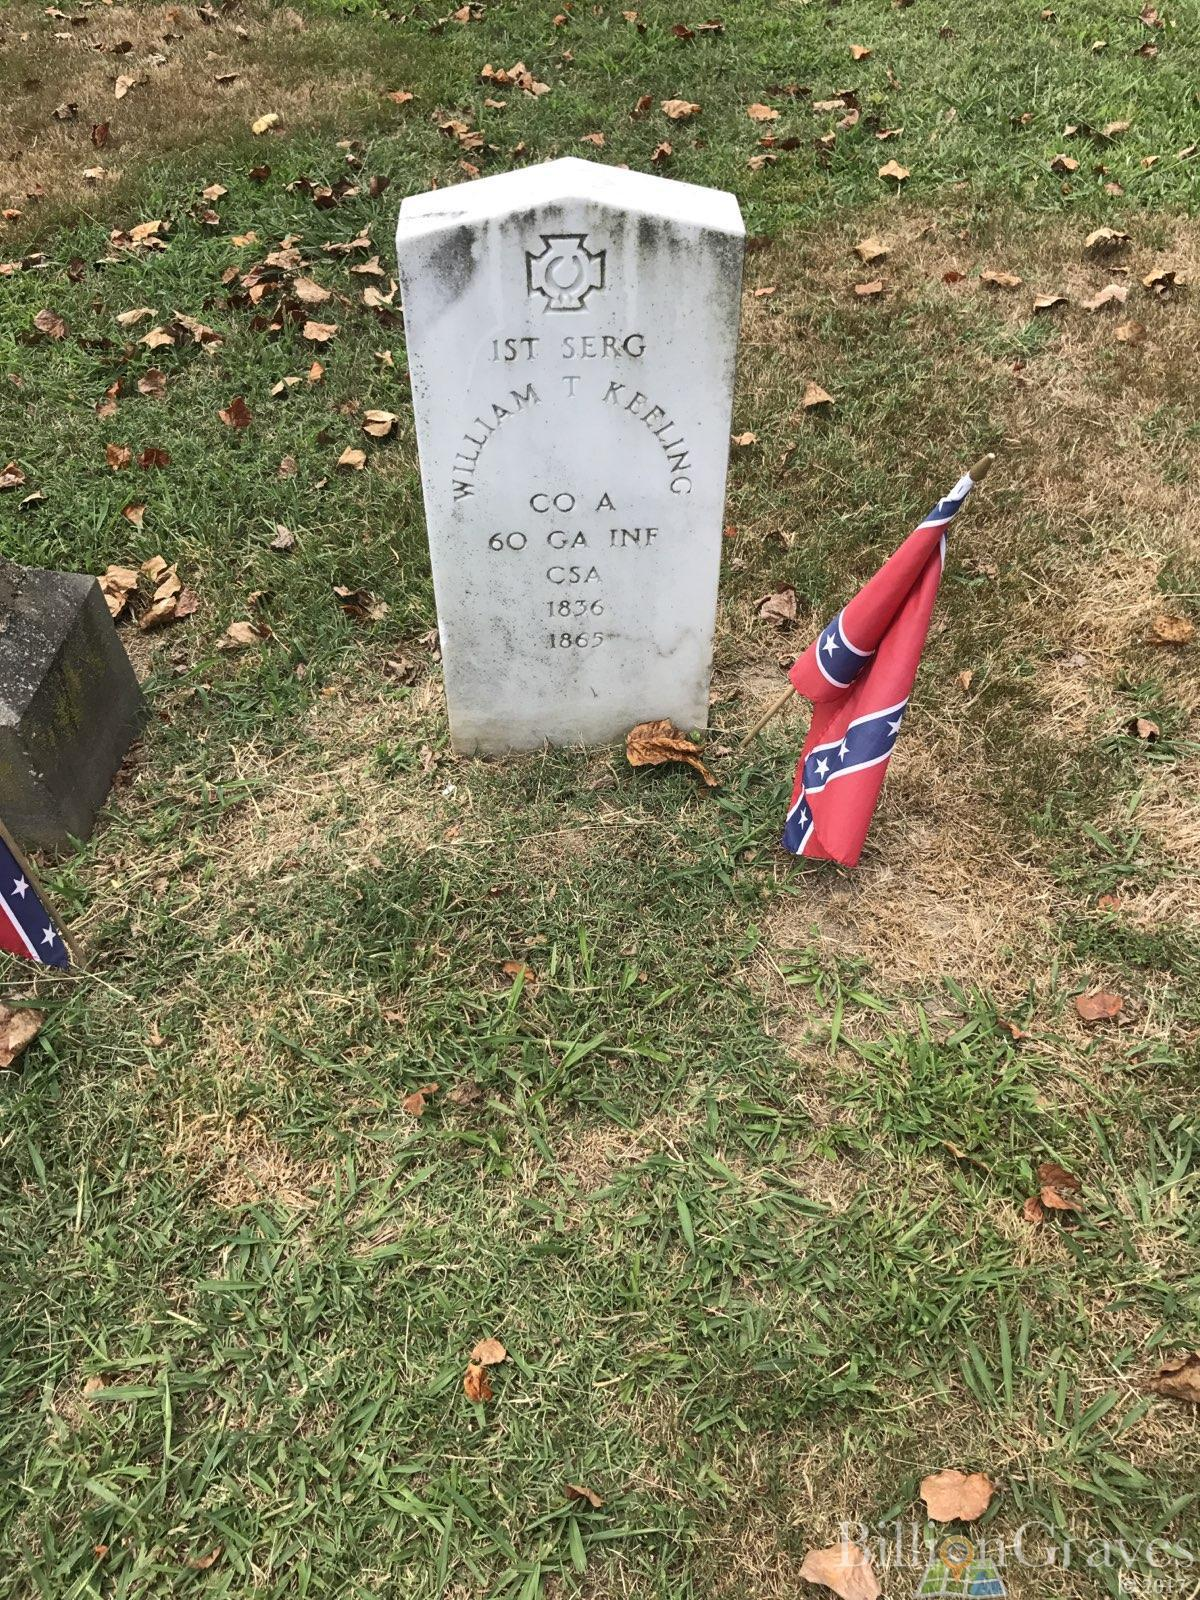military: (392, 150, 744, 776)
